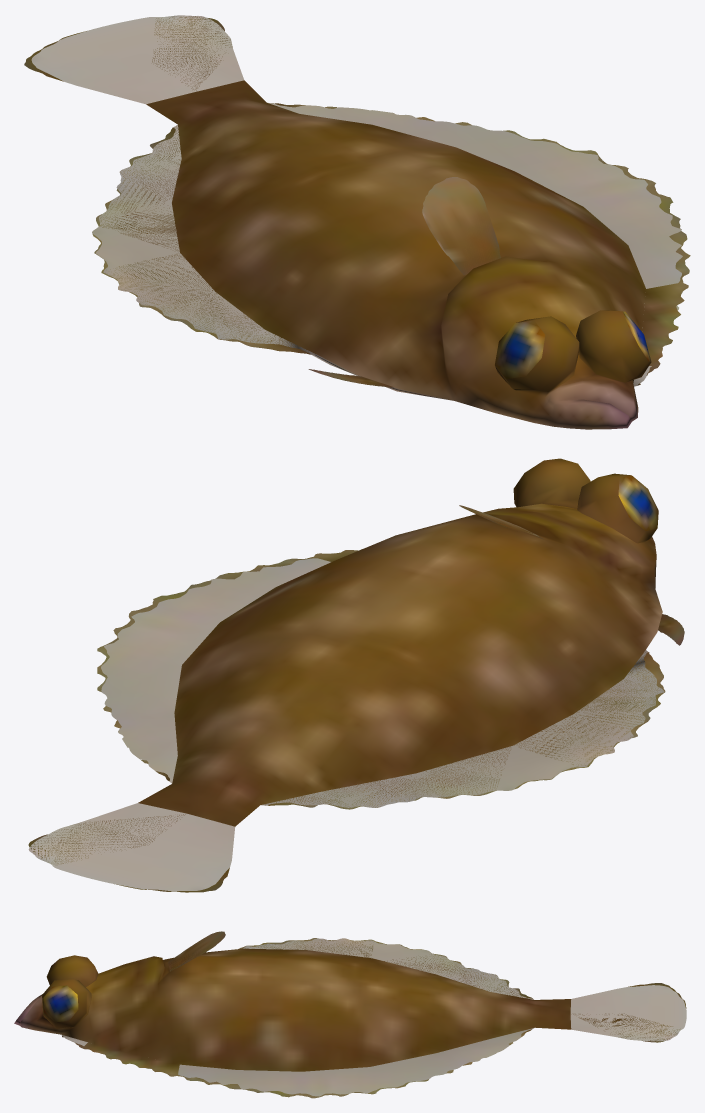
File: dab.glb
The picture shows the model from 3 angles, top to bottom: view 1: azimuth 30°, elevation 25°; view 2: azimuth 150°, elevation 25°; view 3: azimuth 270°, elevation 25°; orthographic projection. The views are drawn at different scales.
Bounding box in the file's own units: 4 × 1.25 × 7.06.
Materials: 1 (1 with a texture image).
